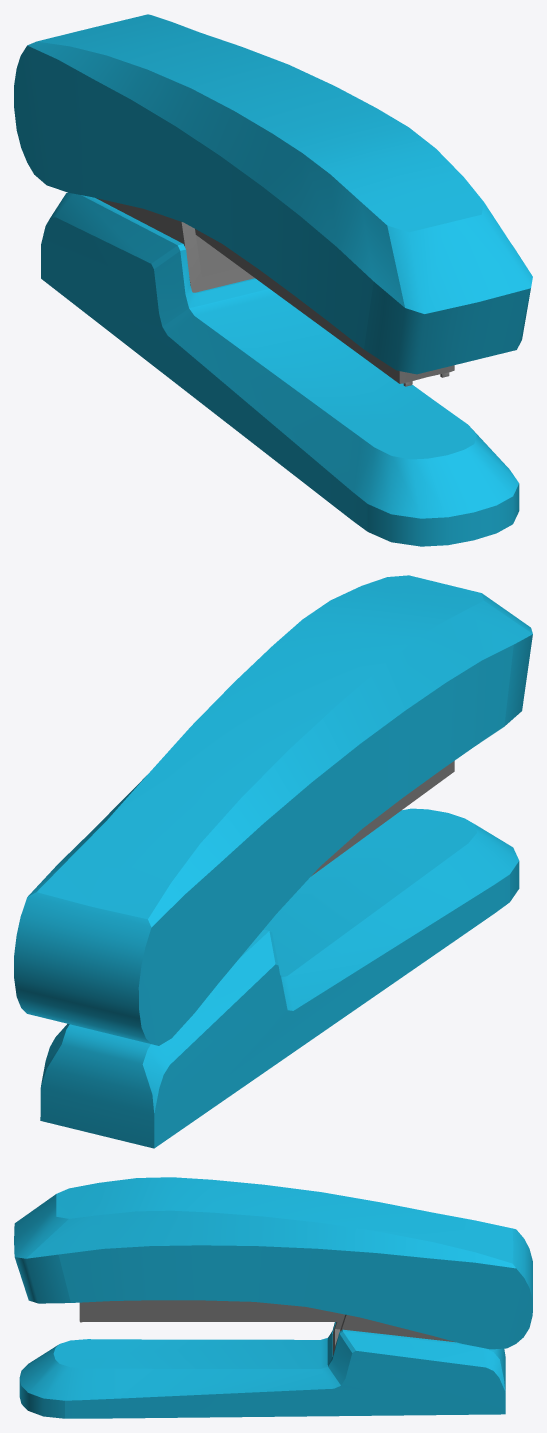
Rendered from staipler untitled.fbx.
3 views of the same model, one above another, from view 1: azimuth 30°, elevation 25°; view 2: azimuth 150°, elevation 25°; view 3: azimuth 270°, elevation 25° (orthographic). The views are drawn at different scales.
Parts seen in each view (by area): view 1: stapler; view 2: stapler; view 3: stapler.
Boxes of the visible parts, x1,y1,x2,y2 form: stapler: (14, 14, 532, 546); stapler: (14, 575, 532, 1148); stapler: (14, 1177, 532, 1418).
Size of the model in its own units: 270 by 554 by 1283.
